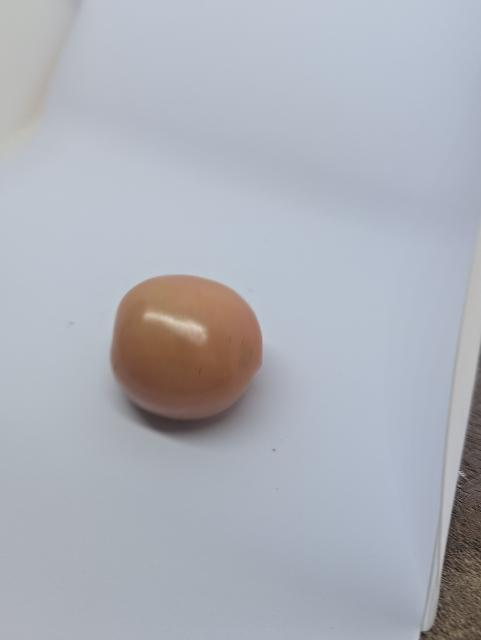turning: (108, 265, 270, 428)
